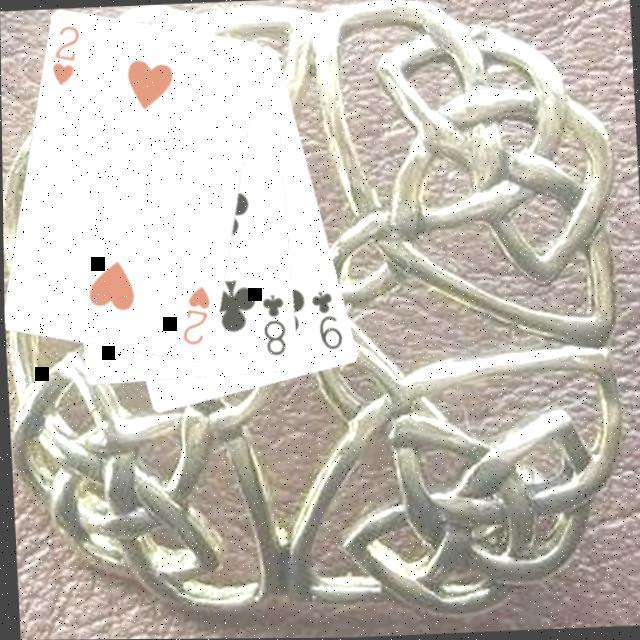2H: (175, 281, 214, 348), (45, 22, 84, 89)
8C: (256, 290, 288, 359)
9C: (306, 286, 345, 353)
